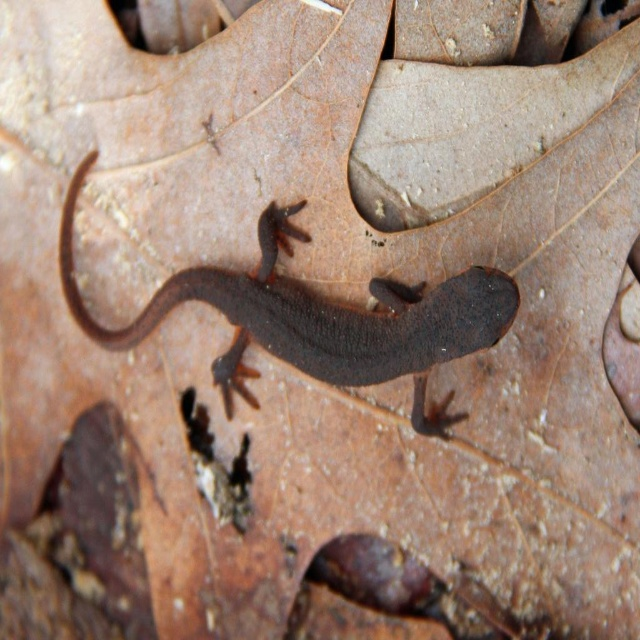Lizard: (82, 171, 529, 467)
